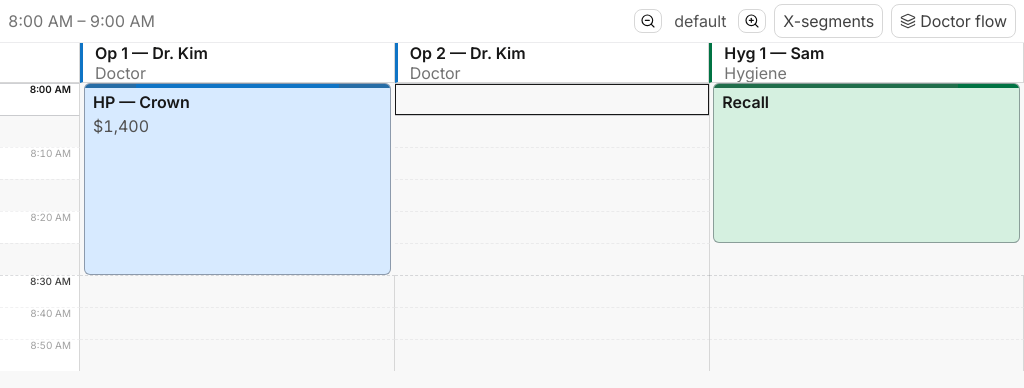
it: ScheduleGrid — doctor-flow overlay toggle › overlay starts hidden and toggles visible on button click
Click the button with test id "sg-doctor-flow-toggle" at (954, 21), box [891,4,1016,38]
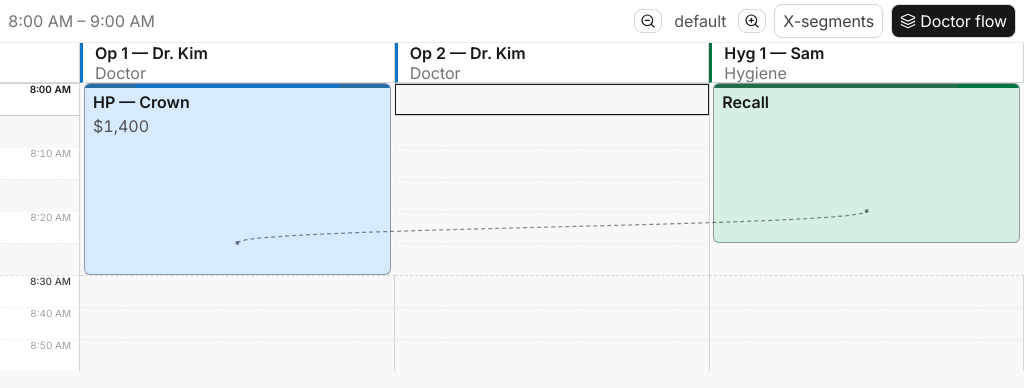
Result: the element with test id "sg-doctor-flow-overlay" is shown at [80,83,1023,275]
